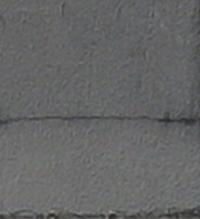termicas: (6, 104, 200, 145)
